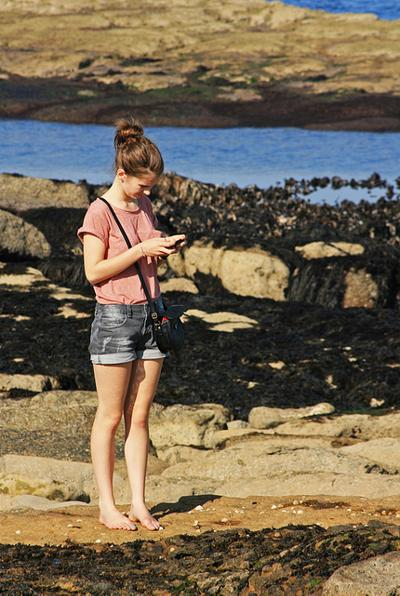person: (83, 122, 188, 534)
